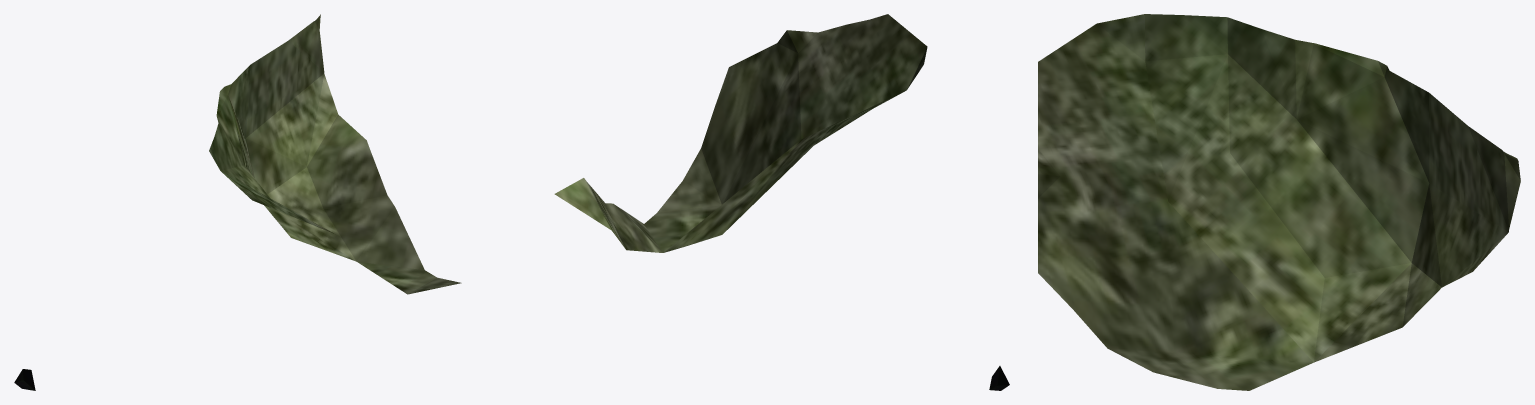
The picture shows the model from 3 angles, left to right: view 1: azimuth 30°, elevation 25°; view 2: azimuth 150°, elevation 25°; view 3: azimuth 270°, elevation 25°; orthographic projection. The views are drawn at different scales.
Bounding box in the file's own units: 2.07 × 1.2 × 1.77.
Materials: 1 (1 with a texture image).
